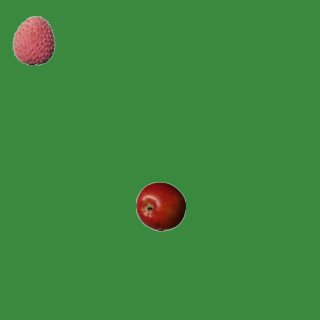Apple Braeburn: (135, 181, 185, 231)
Lychee: (8, 15, 58, 65)
